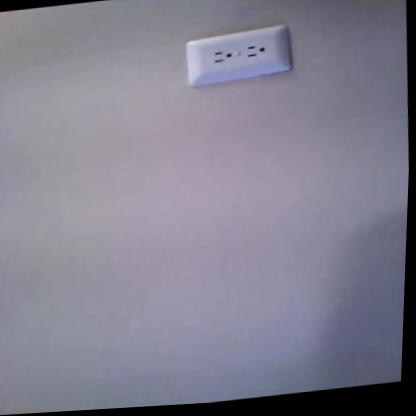OUTLET: (186, 26, 286, 81)
